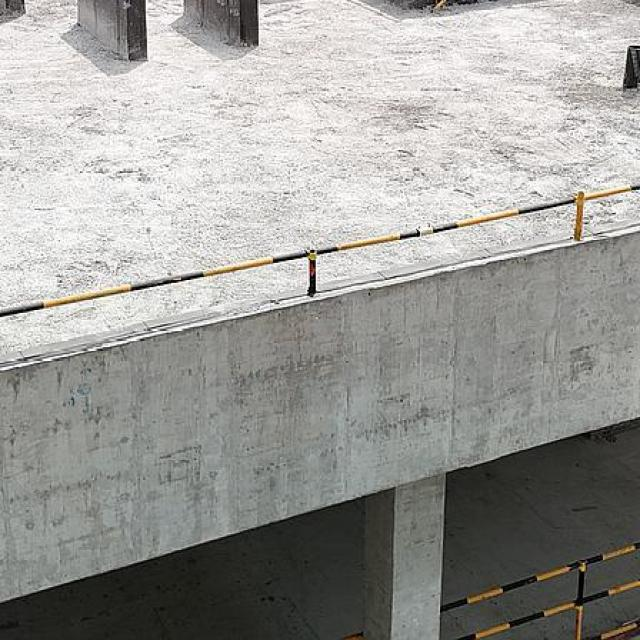edge_guardrail: (0, 181, 640, 320), (440, 538, 640, 640), (337, 621, 366, 640), (432, 0, 447, 10)
